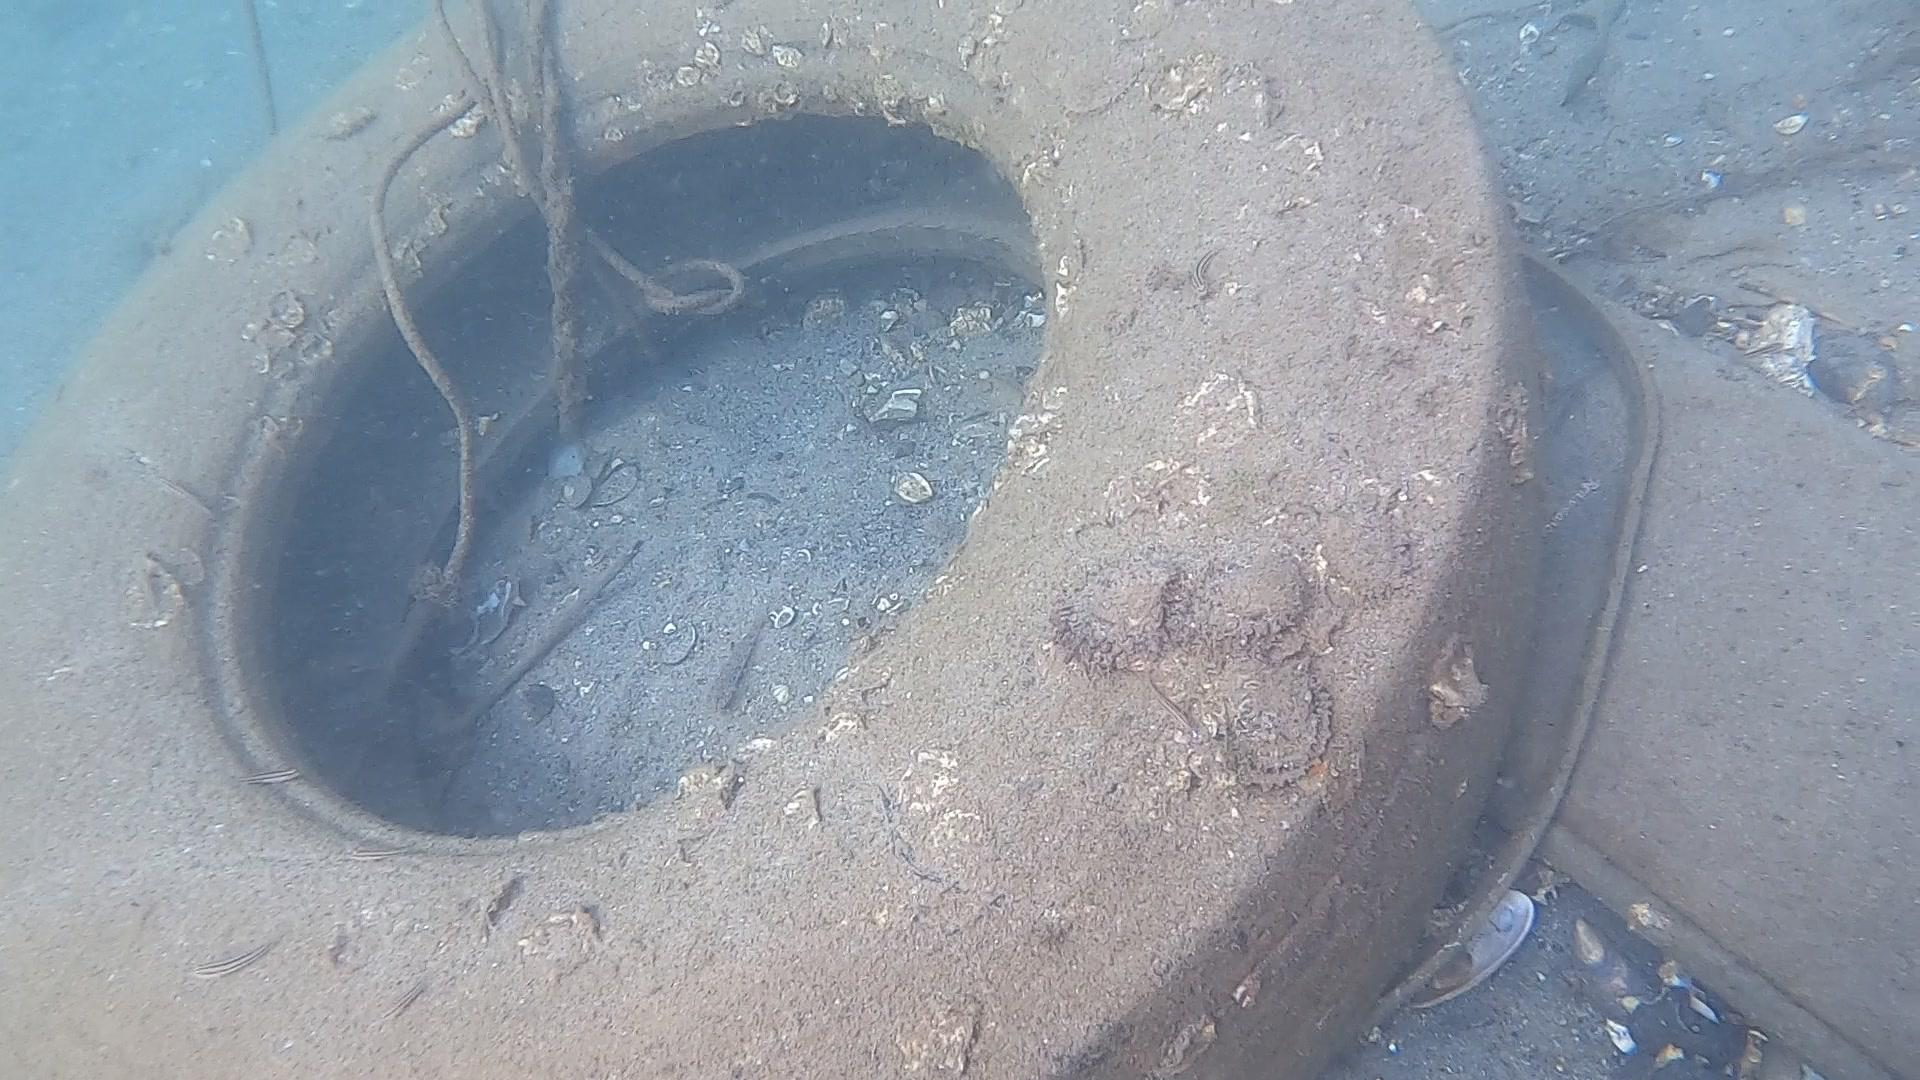bundle of ropes: (368, 0, 748, 589)
rope: (243, 3, 280, 140)
tire: (0, 0, 1549, 1080)
